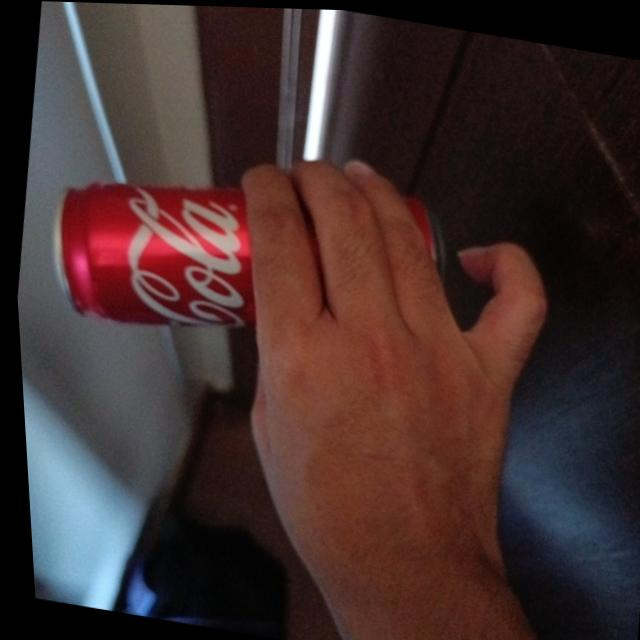coke: (36, 141, 453, 375)
